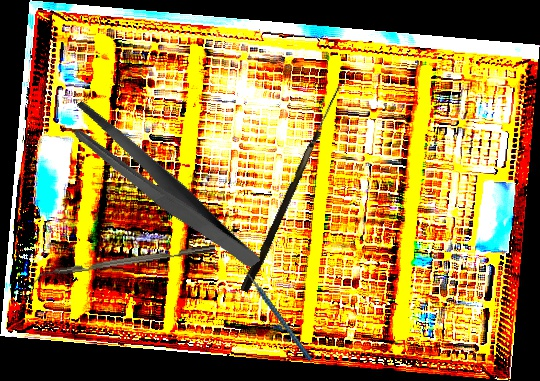Chopper: (234, 253, 313, 374), (32, 244, 217, 286)
Dressing Forceps: (60, 68, 263, 307)
Hook Surgical: (240, 80, 341, 295)
